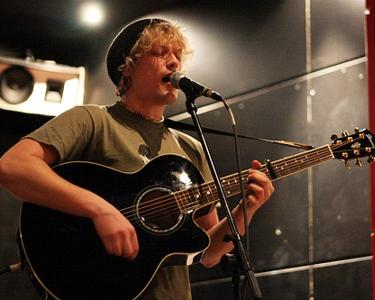person: (2, 17, 276, 300)
